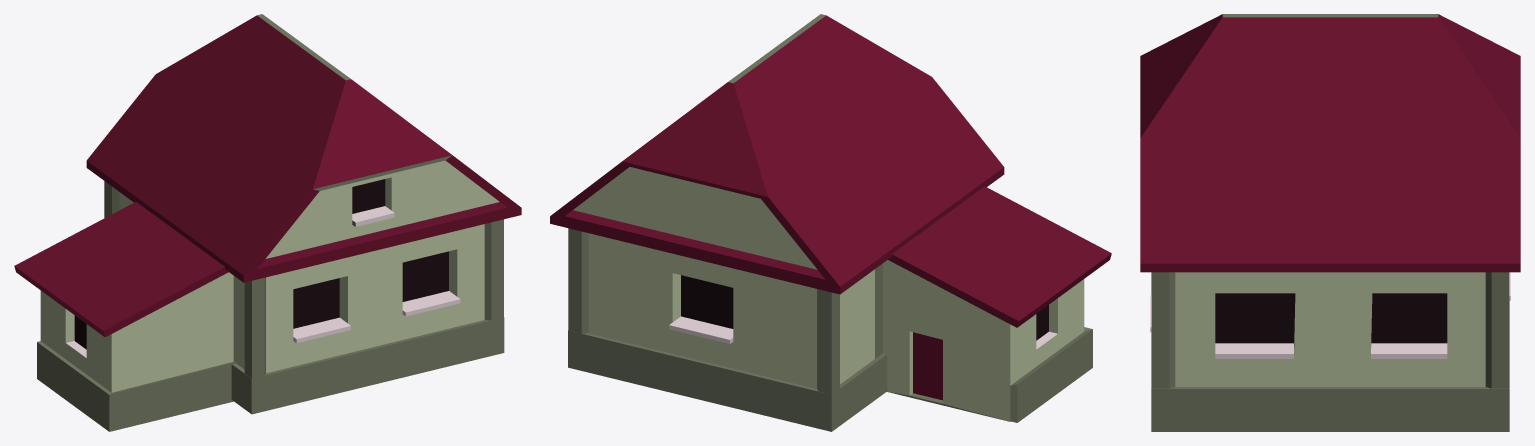
File: домик1.fbx
The picture shows the model from 3 angles, left to right: view 1: azimuth 30°, elevation 25°; view 2: azimuth 150°, elevation 25°; view 3: azimuth 270°, elevation 25°; orthographic projection. The views are drawn at different scales.
Parts seen in each view (by area): view 1: Polygon; view 2: Polygon; view 3: Polygon.
Part boxes in pixels (x1=…): Polygon: x1=14, y1=14, x2=521, y2=431; Polygon: x1=550, y1=14, x2=1111, y2=431; Polygon: x1=1140, y1=14, x2=1520, y2=431.
Bounding box in the file's own units: 2835 × 1929 × 1930.
